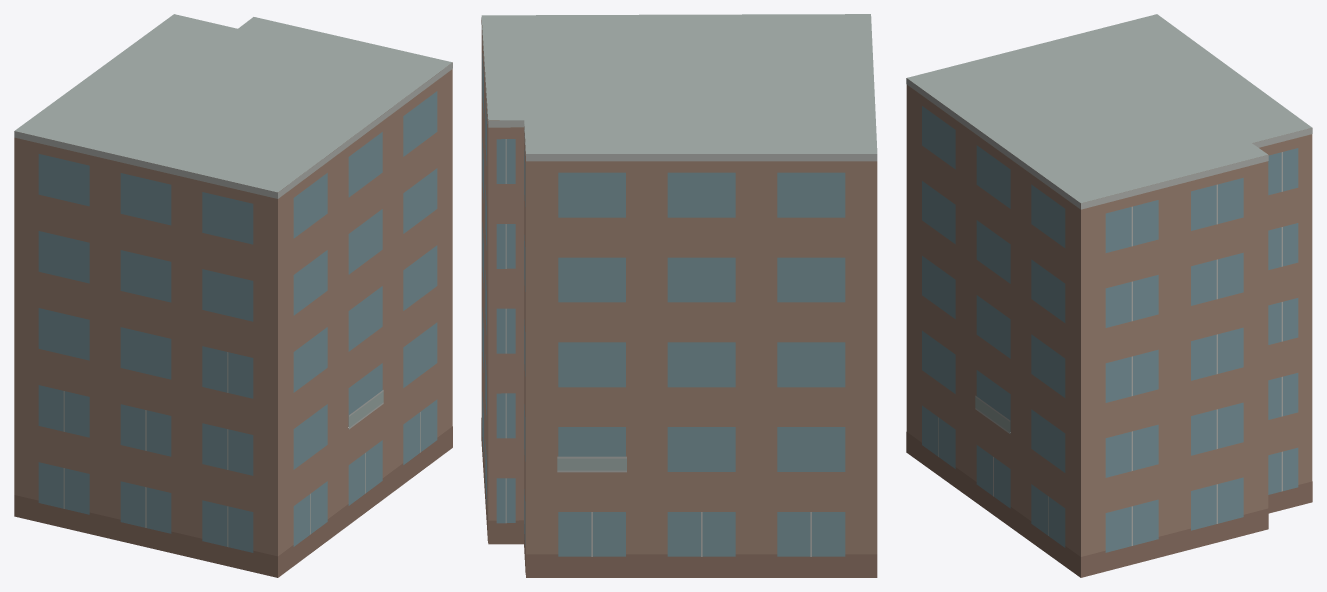
Rendered from survey-upis-32859731.glb.
3 views of the same model, side by side, from view 1: azimuth 30°, elevation 25°; view 2: azimuth 150°, elevation 25°; view 3: azimuth 270°, elevation 25° (orthographic). The views are drawn at different scales.
Parts seen in each view (by area): view 1: survey-upis-32859731.tmp; view 2: survey-upis-32859731.tmp; view 3: survey-upis-32859731.tmp.
Part boxes in pixels (<box>): survey-upis-32859731.tmp: <box>14,14,452,577</box>; survey-upis-32859731.tmp: <box>481,14,877,577</box>; survey-upis-32859731.tmp: <box>906,14,1312,577</box>.
Bounding box in the file's own units: 15.57 × 14.36 × 14.11.
